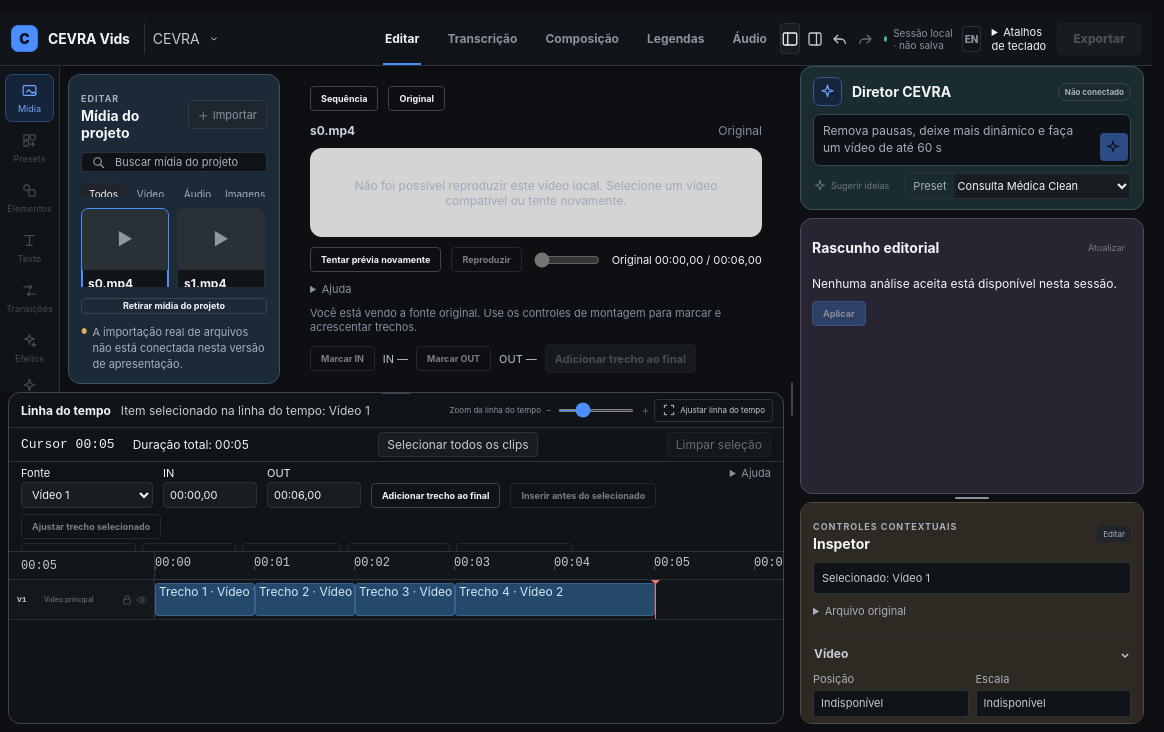
Scenario: clip selection retains timeline scale and exposes exact total and selected durations
Click the button with class "timeline-trim-select" showing "Trecho 1 · Vídeo 1" at (205, 600), box [155,583,255,616]
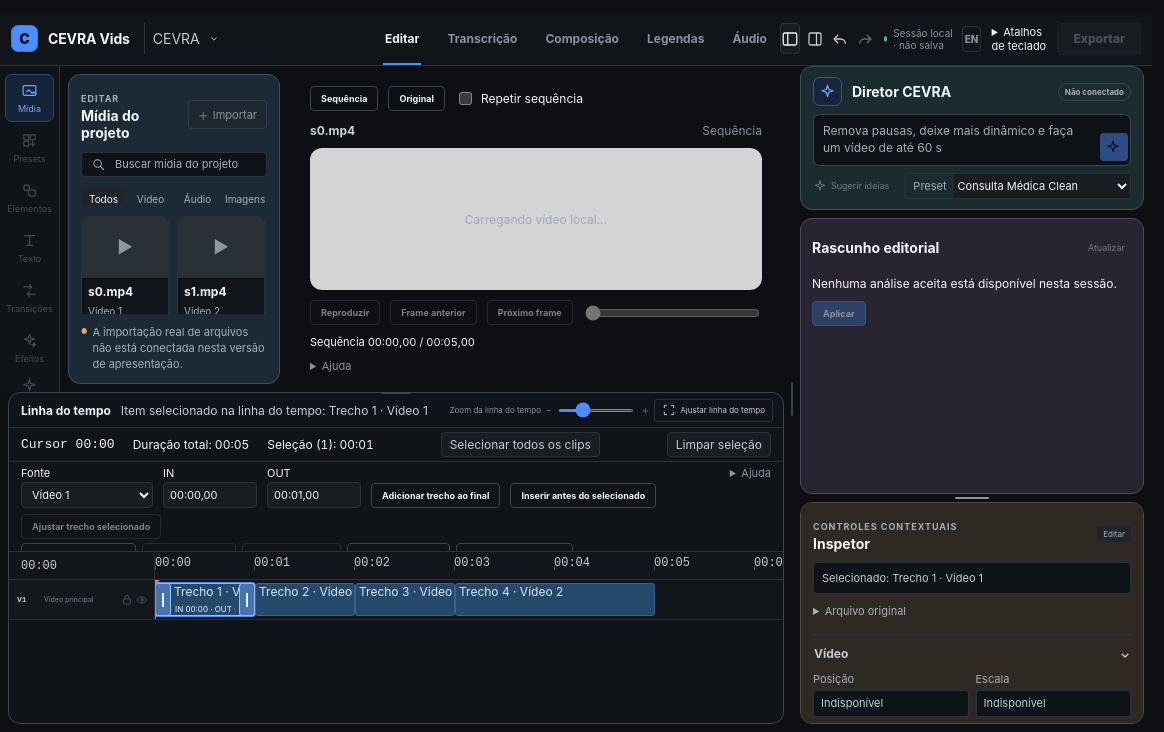
Click the button with class "timeline-trim-select" showing "Trecho 4 · Vídeo 2" at (555, 600), box [455,583,655,616]
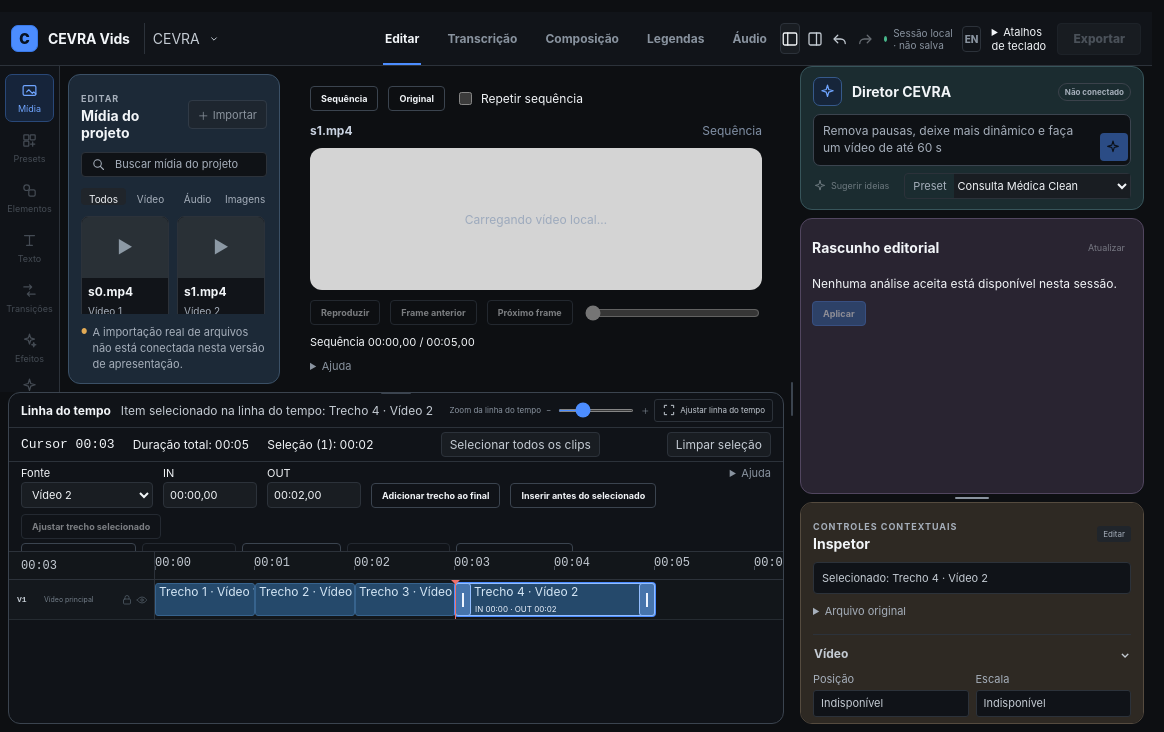
expect the text with test id "timeline-total-duration" shows "00:05": met, box [133,437,249,452]
expect the text with test id "timeline-selected-duration" shows "00:02": met, box [267,437,374,452]
Click the button with class "timeline-trim-select" showing "Trecho 2 · Vídeo 1" at (305, 600), box [255,583,355,616]
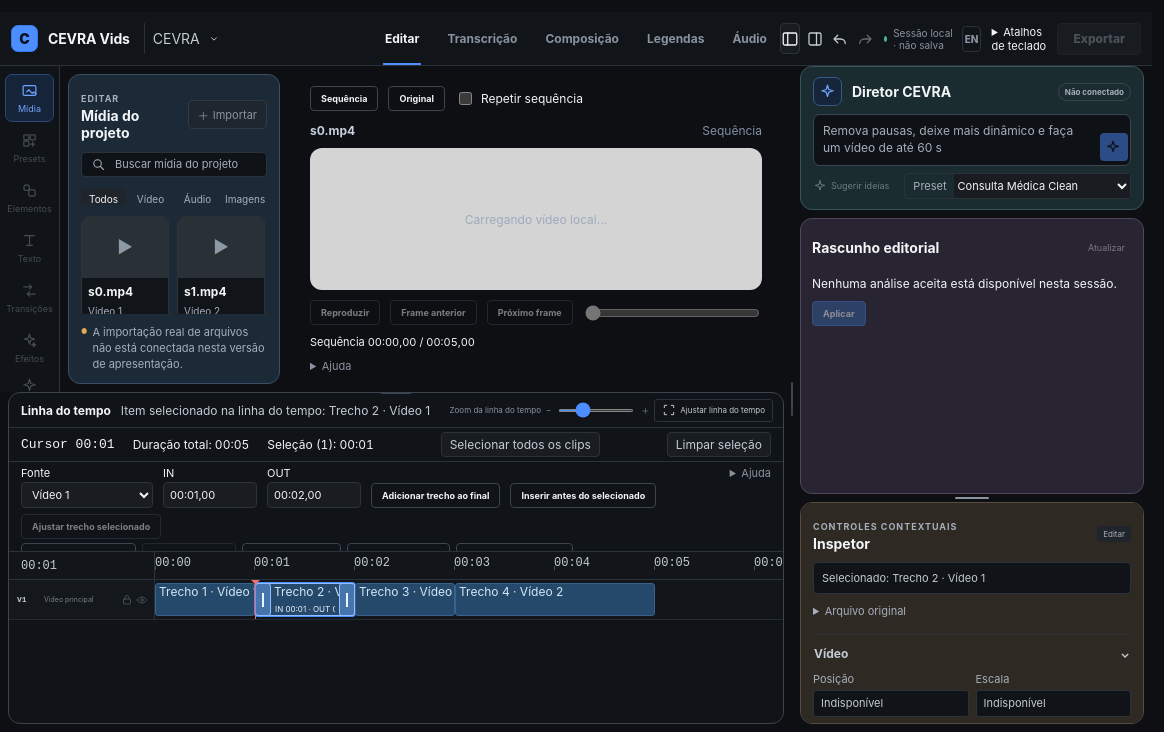
Click the button with class "timeline-trim-select" showing "Trecho 4 · Vídeo 2" at (555, 600), box [455,583,655,616]
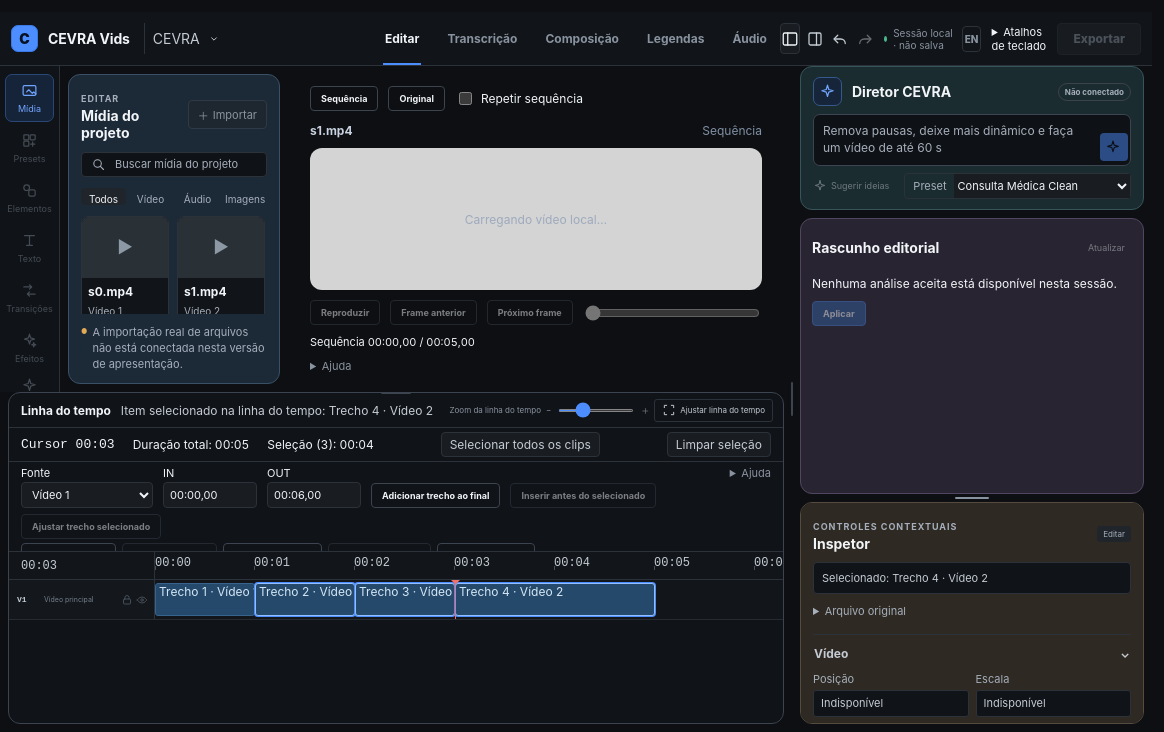
expect the text with test id "timeline-selected-duration" reads "Seleção (3): 00:04": met, box [267,437,374,452]
Click the button with class "timeline-trim-select" showing "Trecho 3 · Vídeo 1" at (405, 600), box [355,583,455,616]
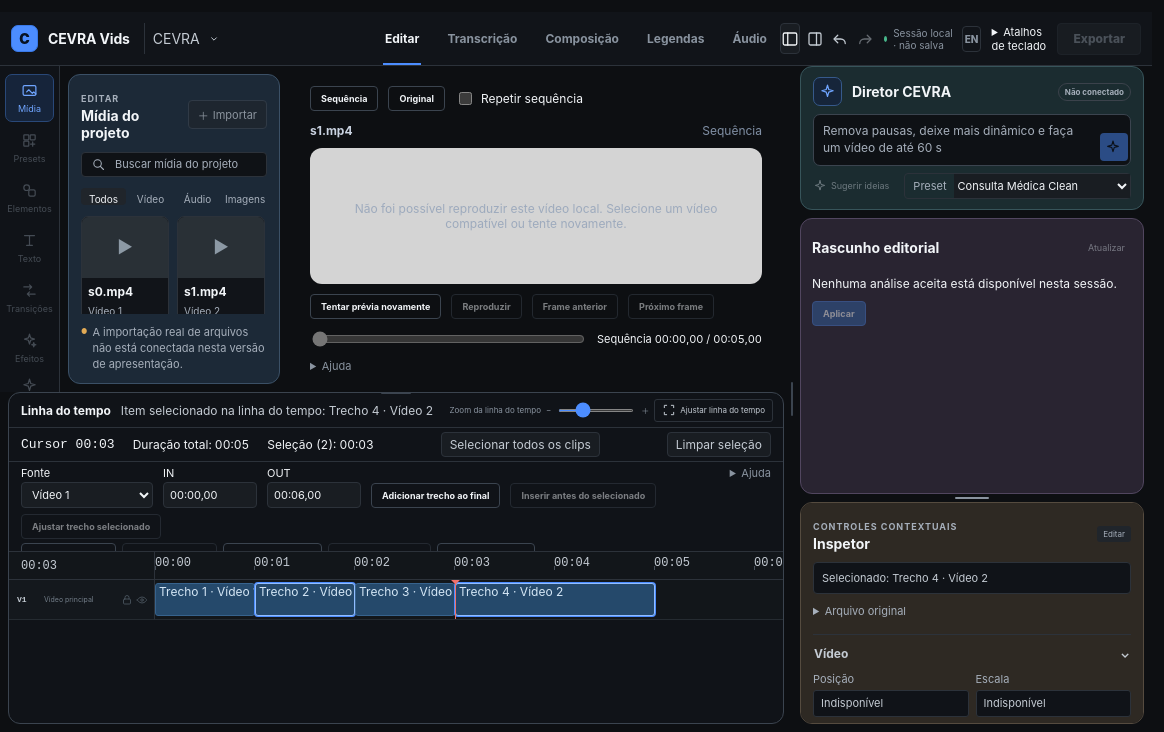
expect the text with test id "timeline-selected-duration" reads "Seleção (2): 00:03": met, box [267,437,374,452]
